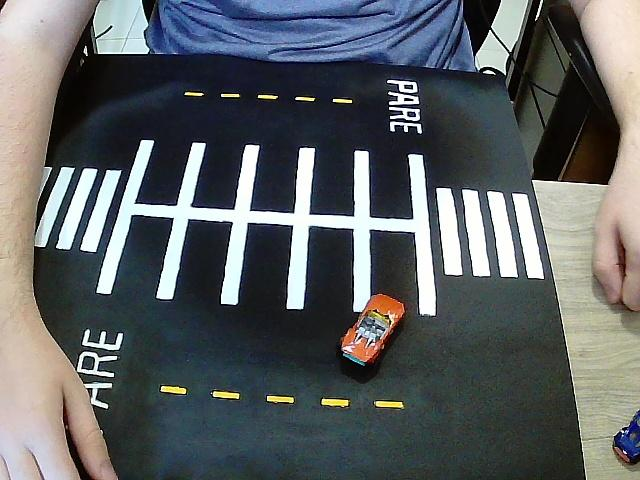Carro: (341, 295, 405, 372), (613, 409, 639, 468)
